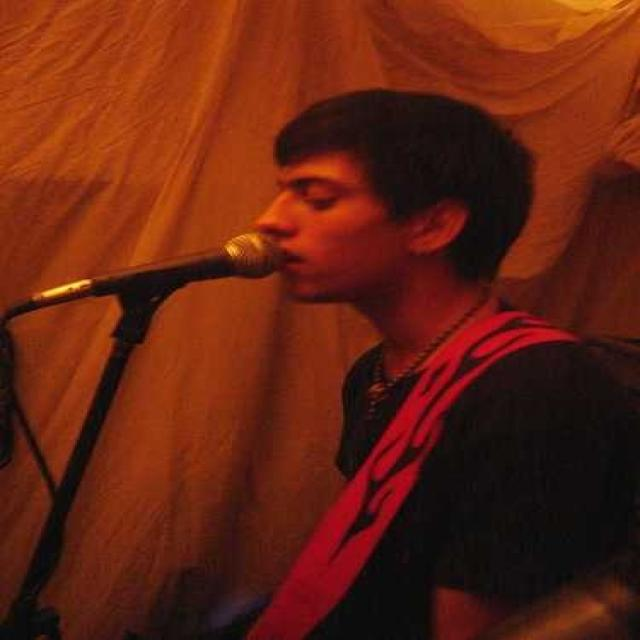microphone: (16, 233, 283, 314)
